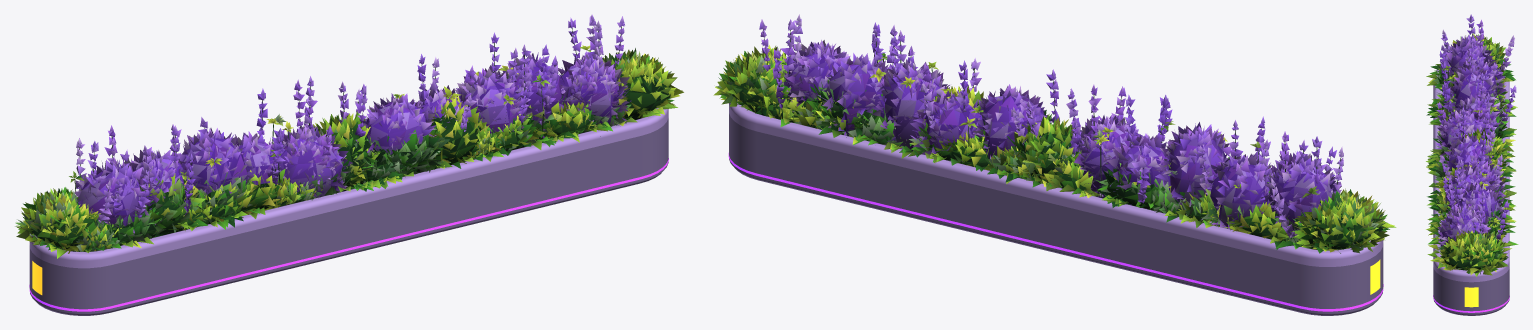
Rendered from planters_long.glb.
The picture shows the model from 3 angles, left to right: view 1: azimuth 30°, elevation 25°; view 2: azimuth 150°, elevation 25°; view 3: azimuth 270°, elevation 25°; orthographic projection. The views are drawn at different scales.
Visible parts, largest first — view 1: planter_long_a_Body, planter_long_a_Flower, planter_long_a_Leaf, planter_long_b_Leaf, planter_long_a_Cap, planter_long_c_Flower, planter_long_c_Leaf, planter_long_b_Flower, planter_long_a_Neon; view 2: planter_long_a_Body, planter_long_a_Flower, planter_long_b_Leaf, planter_long_c_Flower, planter_long_a_Cap, planter_long_c_Leaf, planter_long_b_Flower, planter_long_a_Leaf, planter_long_a_Neon; view 3: planter_long_a_Flower, planter_long_c_Flower, planter_long_b_Leaf, planter_long_a_Leaf, planter_long_c_Leaf, planter_long_b_Flower, planter_long_a_Body, planter_long_a_Cap, planter_long_a_Amber, planter_long_a_Neon.
Part boxes in pixels (box(x1,y1,x2,y2)): planter_long_a_Body: box(29, 118, 668, 315); planter_long_a_Flower: box(74, 32, 627, 233); planter_long_a_Leaf: box(17, 43, 683, 258); planter_long_b_Leaf: box(16, 45, 671, 252); planter_long_a_Cap: box(29, 108, 668, 268); planter_long_c_Flower: box(75, 14, 624, 223); planter_long_c_Leaf: box(15, 26, 677, 251); planter_long_b_Flower: box(129, 56, 631, 210); planter_long_a_Neon: box(29, 158, 668, 311); planter_long_a_Body: box(729, 113, 1383, 315); planter_long_a_Flower: box(783, 30, 1341, 244); planter_long_b_Leaf: box(713, 51, 1389, 251); planter_long_c_Flower: box(759, 14, 1343, 237); planter_long_a_Cap: box(729, 100, 1383, 266); planter_long_c_Leaf: box(717, 25, 1386, 253); planter_long_b_Flower: box(783, 40, 1274, 229); planter_long_a_Leaf: box(721, 41, 1396, 253); planter_long_a_Neon: box(728, 153, 1383, 311); planter_long_a_Flower: box(1437, 19, 1498, 249); planter_long_c_Flower: box(1439, 14, 1516, 241); planter_long_b_Leaf: box(1426, 37, 1517, 275); planter_long_a_Leaf: box(1426, 27, 1516, 276); planter_long_c_Leaf: box(1426, 28, 1518, 274); planter_long_b_Flower: box(1436, 56, 1506, 248); planter_long_a_Body: box(1433, 267, 1509, 315); planter_long_a_Cap: box(1433, 68, 1509, 282); planter_long_a_Amber: box(1464, 287, 1478, 307); planter_long_a_Neon: box(1433, 295, 1509, 312).
Size of the model in its own units: 8.31 by 1.91 by 1.47.
